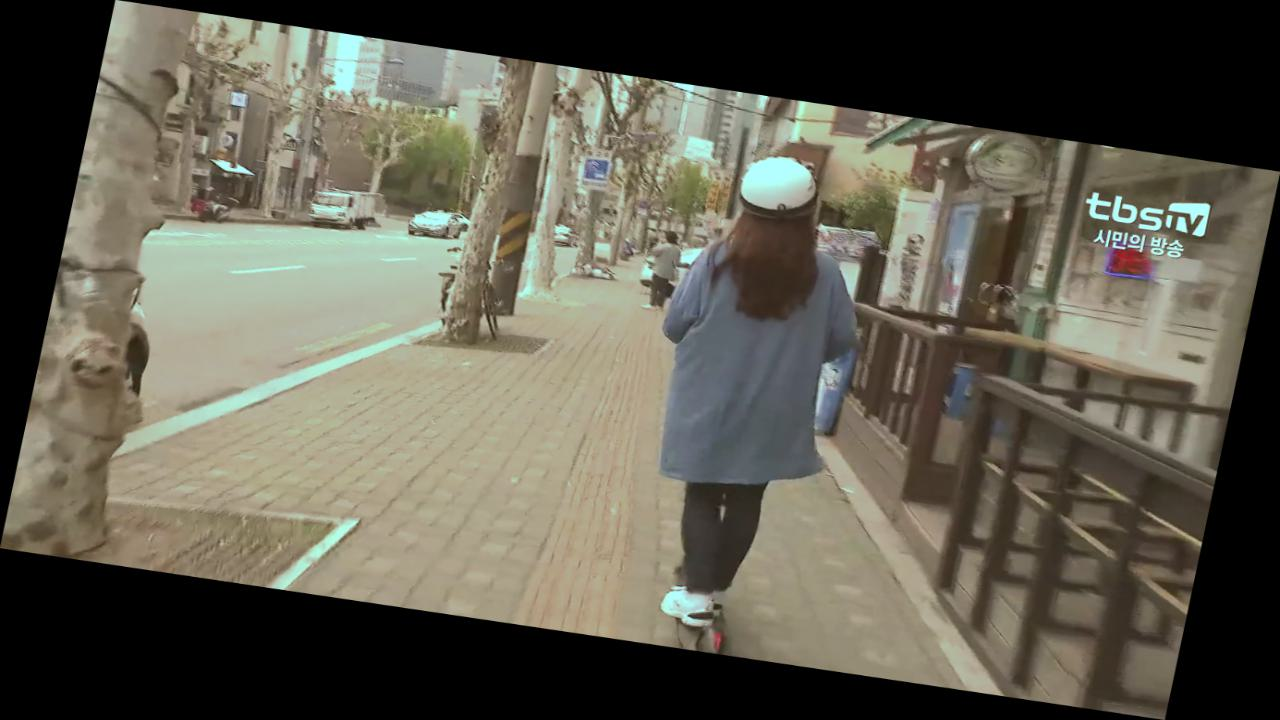helmet: (597, 141, 903, 666)
